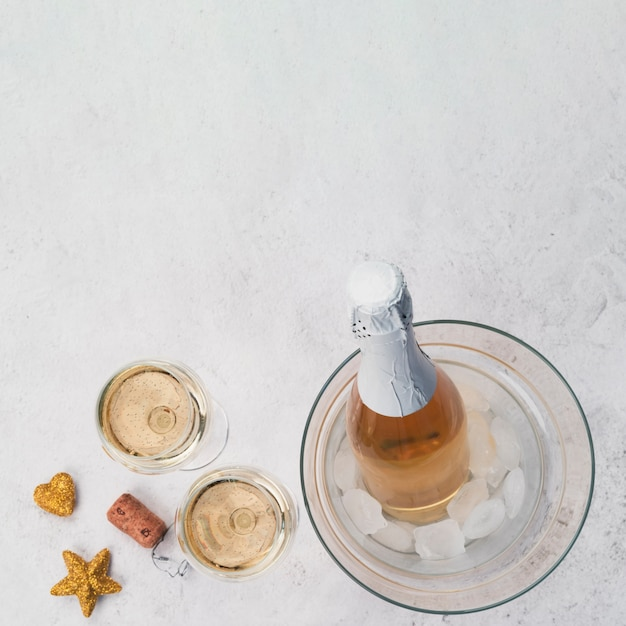alcohol: (348, 257, 474, 526), (95, 362, 232, 473), (180, 470, 294, 578)
